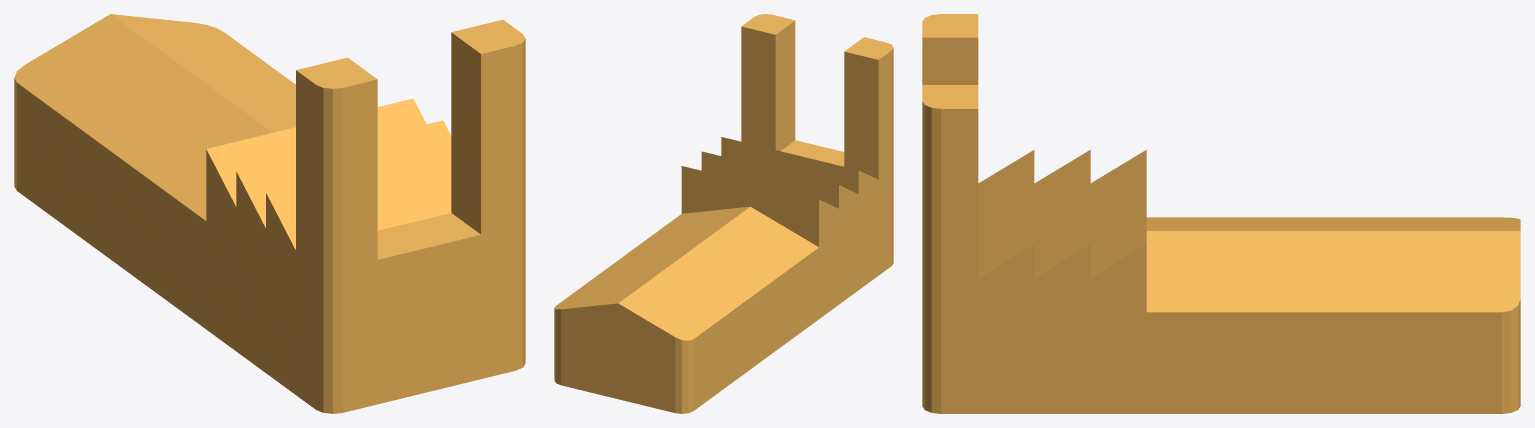
3 renders of one model, left to right at view 1: azimuth 30°, elevation 25°; view 2: azimuth 150°, elevation 25°; view 3: azimuth 270°, elevation 25°, orthographic. The views are drawn at different scales.
Parts seen in each view (by area): view 1: Cube; view 2: Cube; view 3: Cube.
Part boxes in pixels (x1,y1,x2,y2): Cube: (14, 14, 525, 413); Cube: (554, 14, 893, 413); Cube: (922, 14, 1520, 413).
Bounding box in the file's own units: 60 × 90 × 160.
